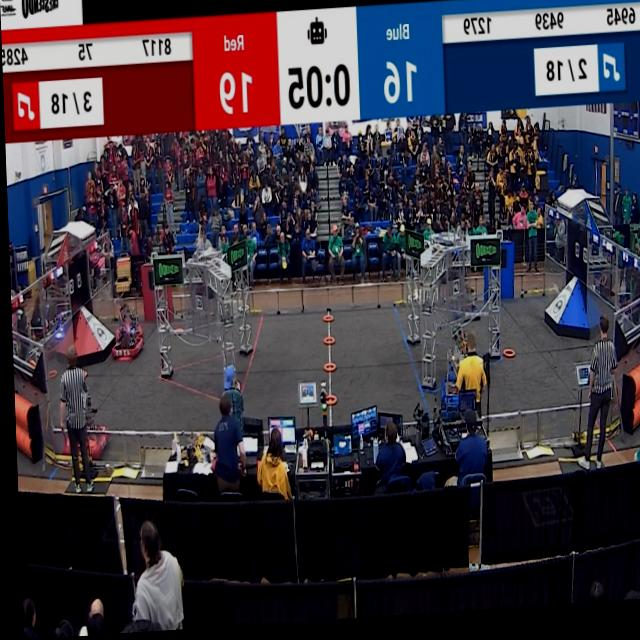Robot: (55, 359, 109, 462), (107, 298, 142, 367), (108, 279, 144, 344), (439, 278, 481, 332), (427, 366, 456, 416), (434, 336, 454, 397)
